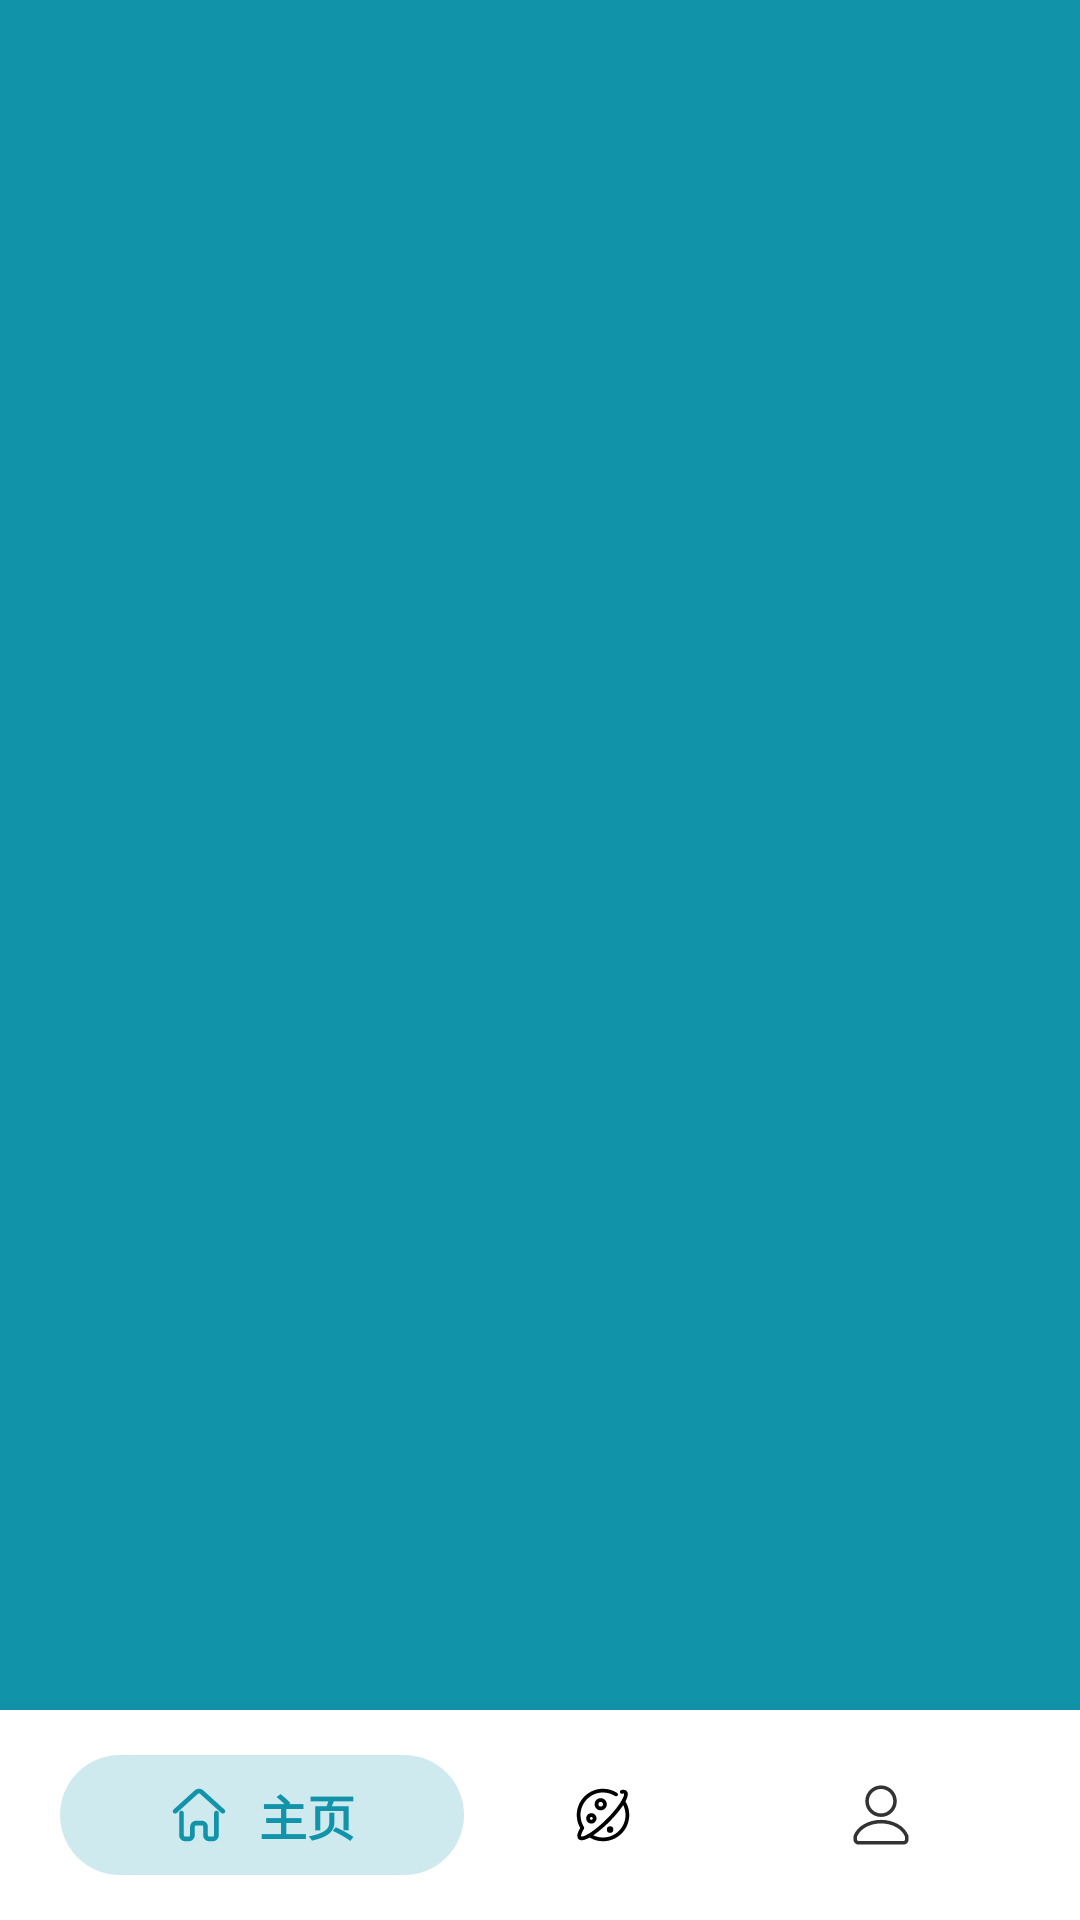

Where to tap for icons on this 1080px x 1920px app screen, as [x,y]:
home: [199,1815]
person: [881,1815]
